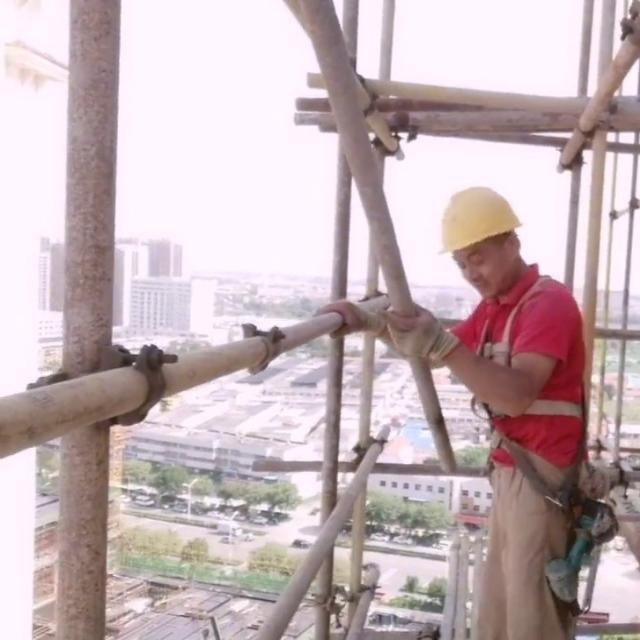Arnes_seguridad: (467, 269, 594, 441)
